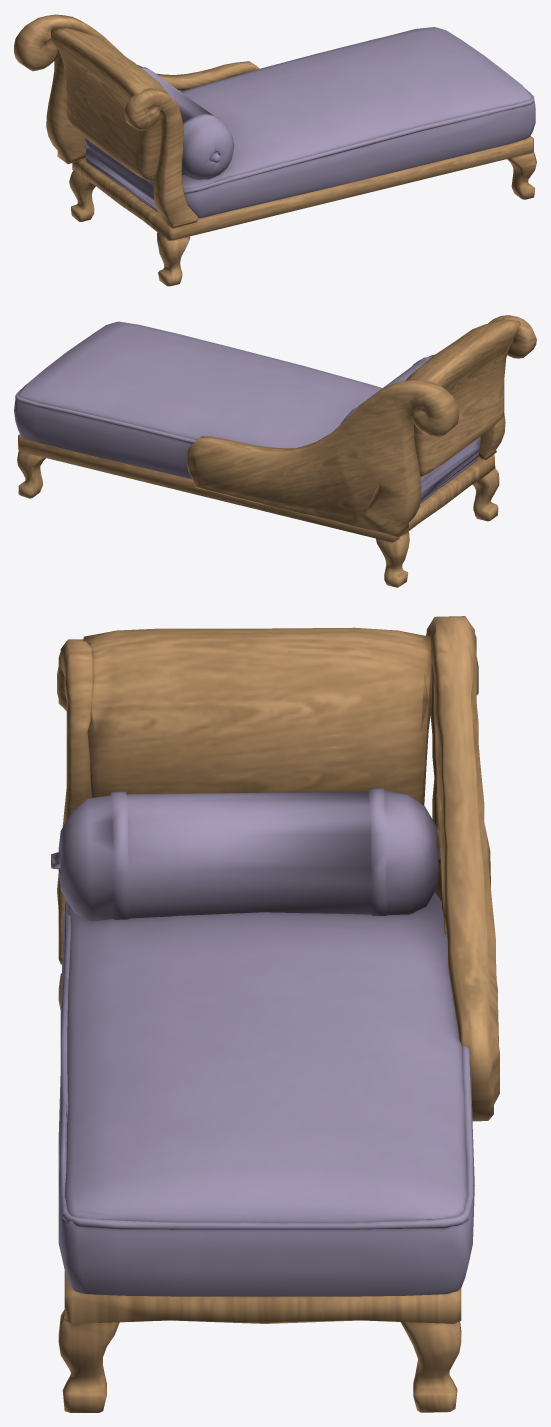
The model's file is chaise-longue.glb.
The picture shows the model from 3 angles, top to bottom: view 1: azimuth 30°, elevation 25°; view 2: azimuth 150°, elevation 25°; view 3: azimuth 270°, elevation 25°; orthographic projection. The views are drawn at different scales.
Parts seen in each view (by area): view 1: chaise-longue; view 2: chaise-longue; view 3: chaise-longue.
Boxes of the visible parts, box(x1,y1,x2,y2) form: chaise-longue: box(14, 14, 536, 286); chaise-longue: box(14, 315, 536, 587); chaise-longue: box(51, 616, 499, 1412).
Size of the model in its own units: 0.998 by 0.4551 by 0.4551.
1 material, 1 textured.
